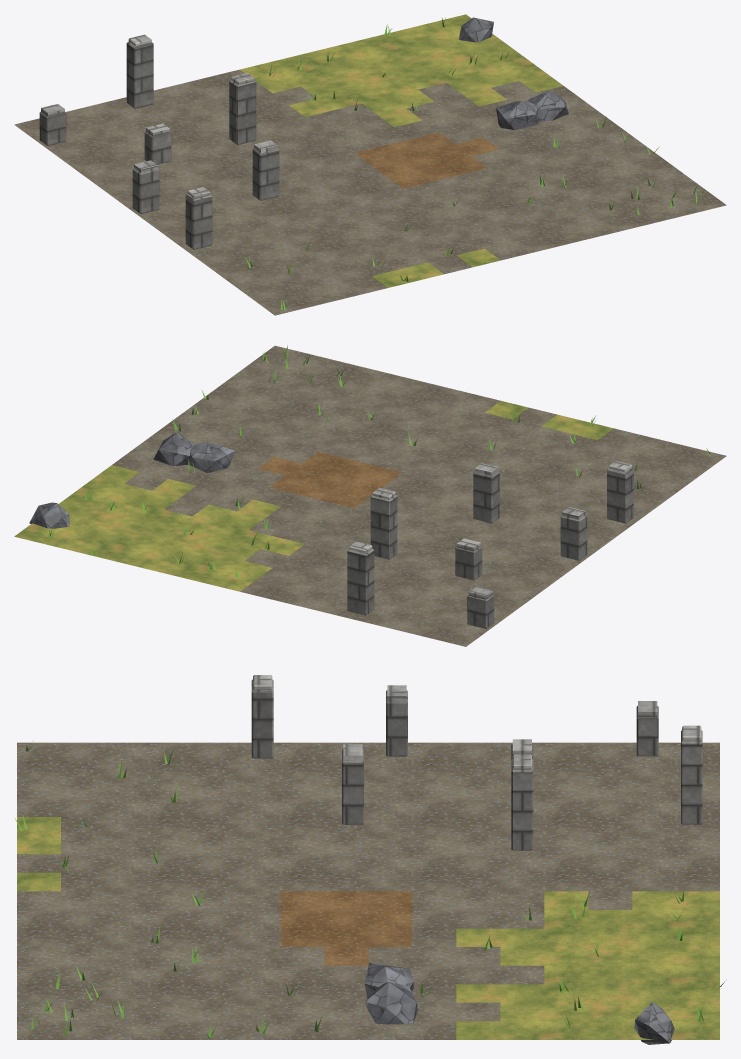
File: chunk_10_17.glb
The picture shows the model from 3 angles, top to bottom: view 1: azimuth 30°, elevation 25°; view 2: azimuth 150°, elevation 25°; view 3: azimuth 270°, elevation 25°; orthographic projection. The views are drawn at different scales.
Parts seen in each view (by area): view 1: chunk_10_17; view 2: chunk_10_17; view 3: chunk_10_17.
Part boxes in pixels (x1,y1,x2,y2): chunk_10_17: (14,14,726,315); chunk_10_17: (14,345,726,646); chunk_10_17: (15,675,724,1044).
Bounding box in the file's own units: 16.13 × 2.74 × 16.23.
Materials: 7 (6 with a texture image).
